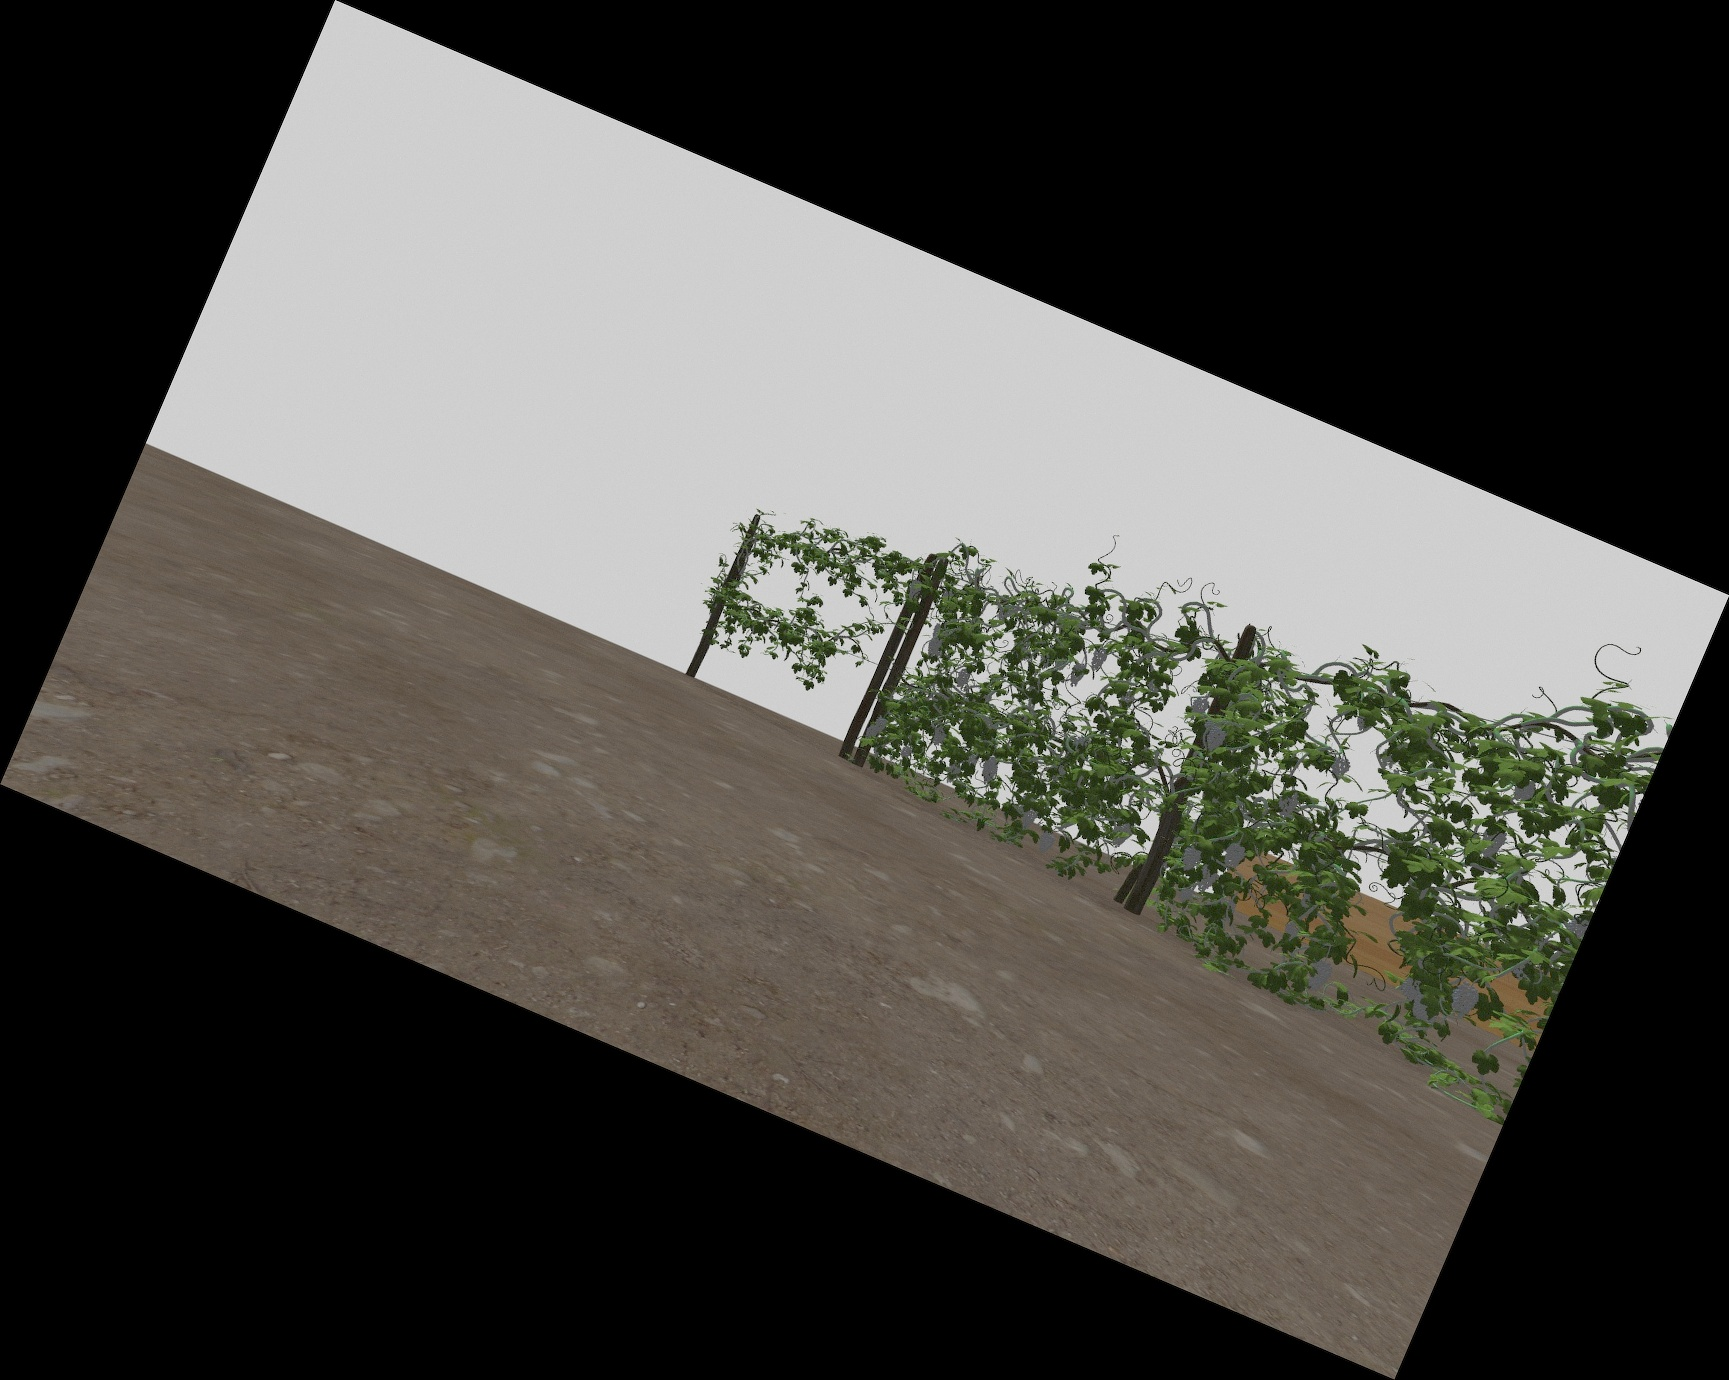grape: (1452, 983, 1477, 1017), (1480, 825, 1504, 858), (1309, 960, 1331, 991), (1277, 790, 1297, 820), (1400, 976, 1421, 1003), (1197, 866, 1216, 894), (1224, 843, 1245, 869), (1514, 779, 1535, 804), (1112, 820, 1131, 848), (1181, 845, 1200, 872), (1207, 727, 1224, 753), (1414, 996, 1432, 1020), (1331, 756, 1349, 779), (981, 758, 995, 784), (1091, 646, 1105, 672), (1070, 663, 1084, 689), (1038, 832, 1055, 853), (1283, 922, 1298, 941), (928, 638, 943, 656), (1193, 697, 1207, 717), (933, 725, 946, 746), (1022, 810, 1036, 827), (957, 667, 969, 689), (910, 580, 921, 598), (1178, 889, 1193, 903), (874, 718, 886, 734), (866, 727, 877, 741), (901, 746, 911, 758)
